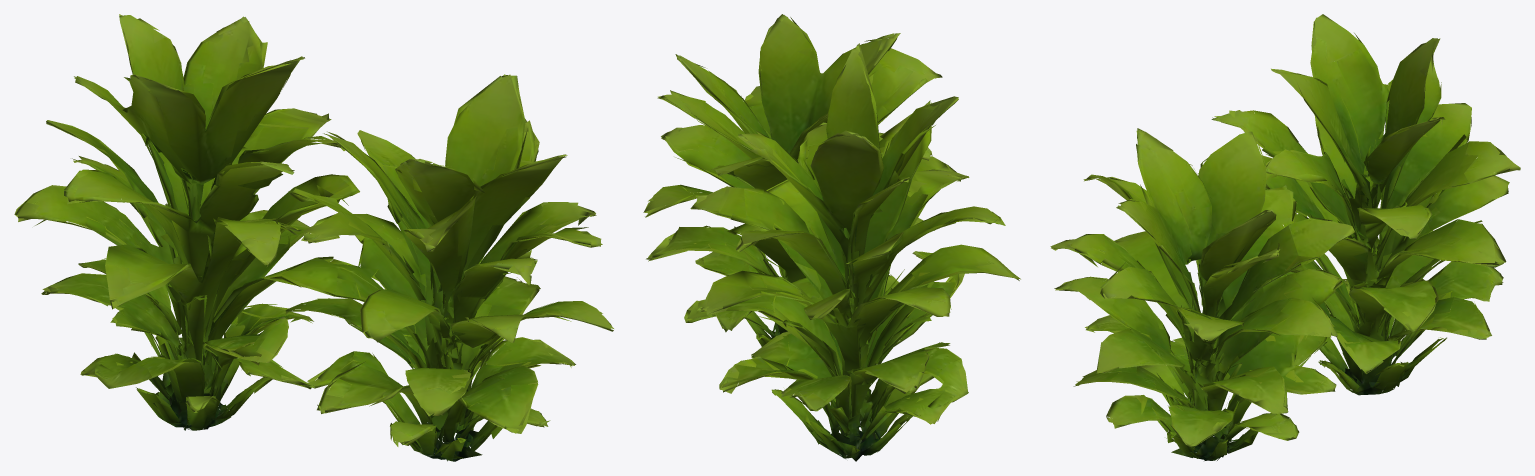
Rendered from crypt.glb.
The picture shows the model from 3 angles, left to right: view 1: azimuth 30°, elevation 25°; view 2: azimuth 150°, elevation 25°; view 3: azimuth 270°, elevation 25°; orthographic projection. The views are drawn at different scales.
Visible parts, largest first — view 1: Universal_tripo_mat_c7bb0dda_0; view 2: Universal_tripo_mat_c7bb0dda_0; view 3: Universal_tripo_mat_c7bb0dda_0.
Boxes of the visible parts, bbox=[...] form: Universal_tripo_mat_c7bb0dda_0: bbox=[14, 14, 613, 461]; Universal_tripo_mat_c7bb0dda_0: bbox=[643, 14, 1020, 461]; Universal_tripo_mat_c7bb0dda_0: bbox=[1050, 14, 1520, 460].
Size of the model in its own units: 0.000465 by 0.000389 by 0.000483.
Materials: 1 (1 with a texture image).
